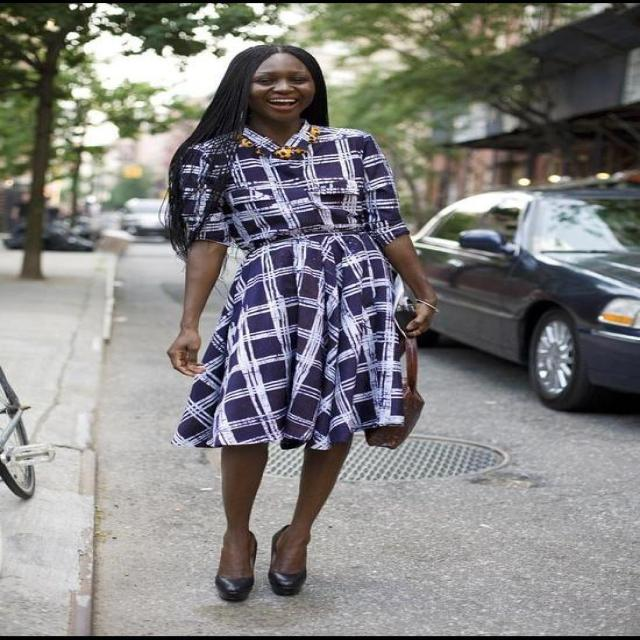dress: (168, 120, 407, 452)
